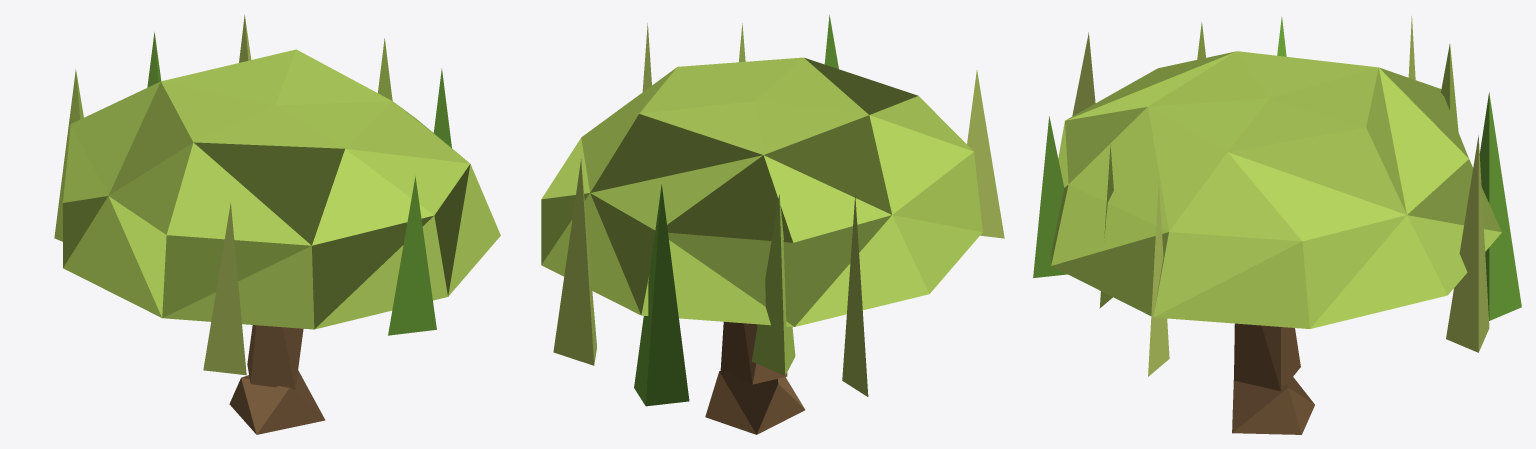
Rendered from tree_willow_4_lod1.glb.
The picture shows the model from 3 angles, left to right: view 1: azimuth 30°, elevation 25°; view 2: azimuth 150°, elevation 25°; view 3: azimuth 270°, elevation 25°; orthographic projection. The views are drawn at different scales.
Visible parts, largest first — view 1: tree_willow_4_lod1; view 2: tree_willow_4_lod1; view 3: tree_willow_4_lod1.
Boxes of the visible parts, <box> form: tree_willow_4_lod1: <box>54,14,500,434</box>; tree_willow_4_lod1: <box>541,14,1004,434</box>; tree_willow_4_lod1: <box>1033,16,1521,434</box>.
Size of the model in its own units: 5.99 by 4.69 by 6.4.
